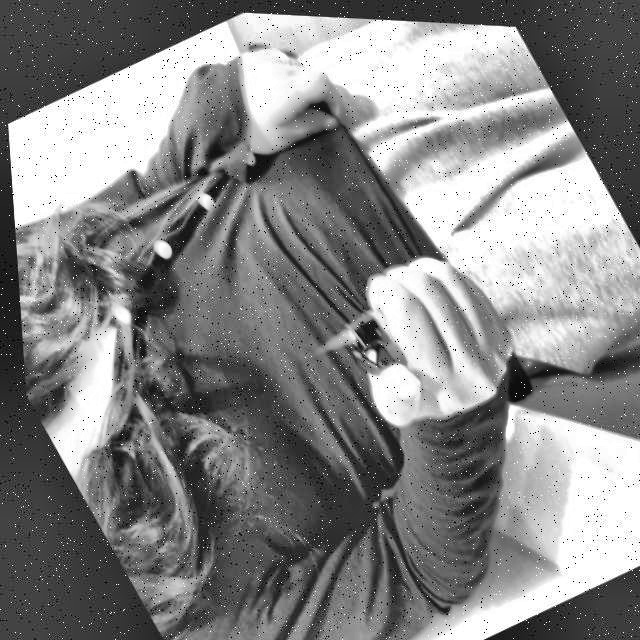Fire: (307, 324, 353, 358)
